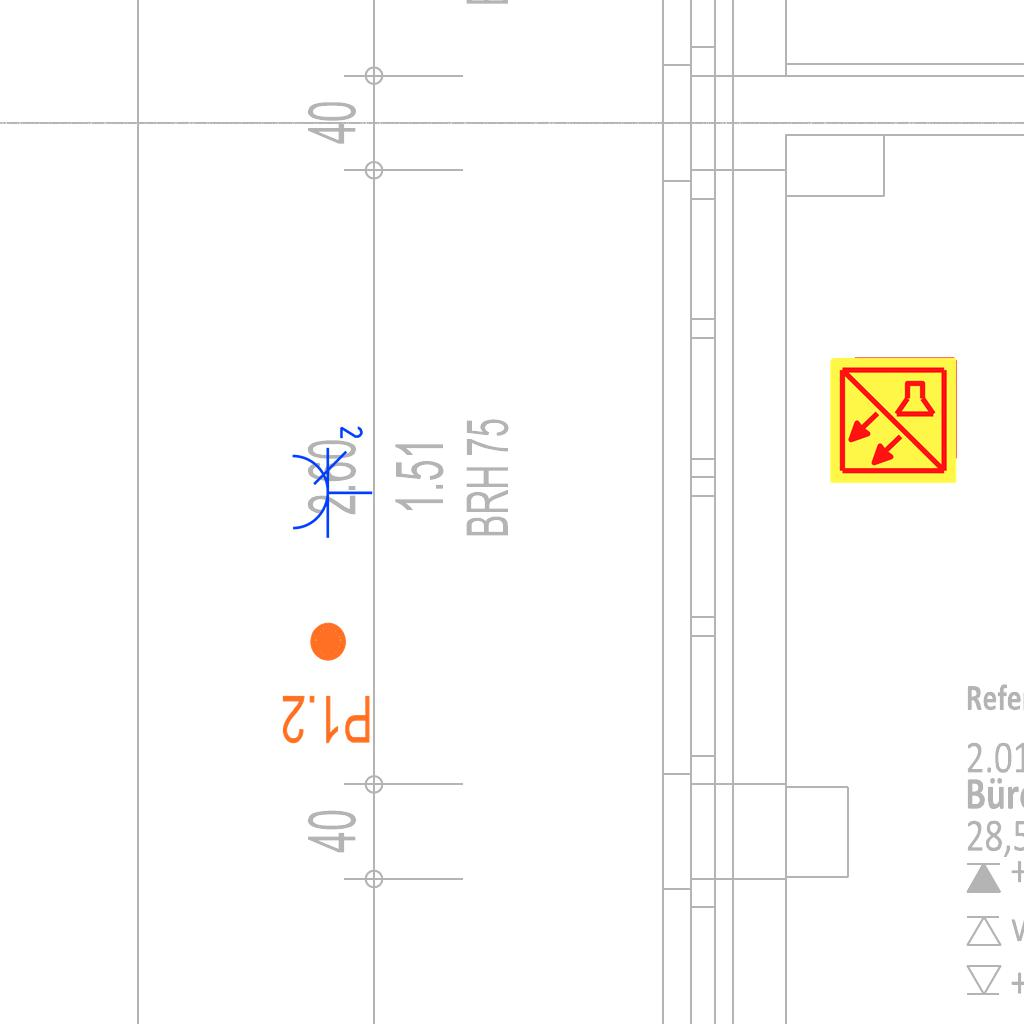Downlight_LED_Einbauleuchten_Flur: (280, 619, 373, 747)
OKW_Multisensormelder_(Kombination_optischer_Rauch-Kahlenmonoxid_Waerme-Melder): (827, 354, 959, 486)
Schukosteckdose_mehrfach: (286, 419, 374, 540)
